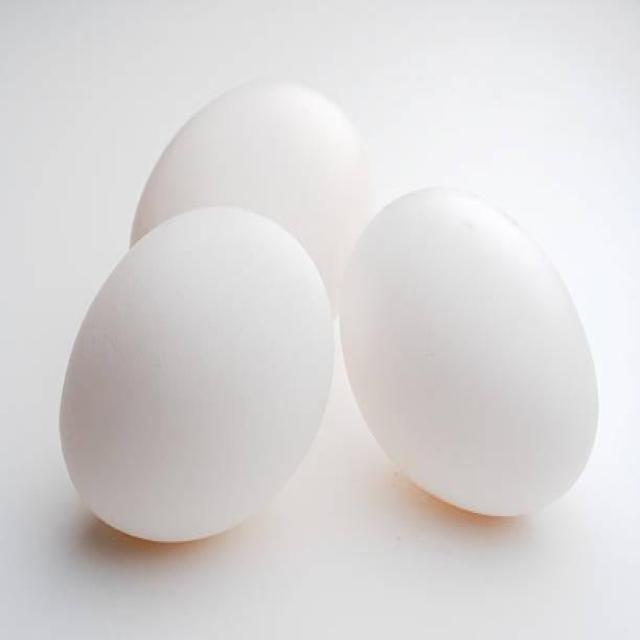Egg: (60, 209, 333, 540), (340, 188, 599, 513), (131, 82, 373, 312)
